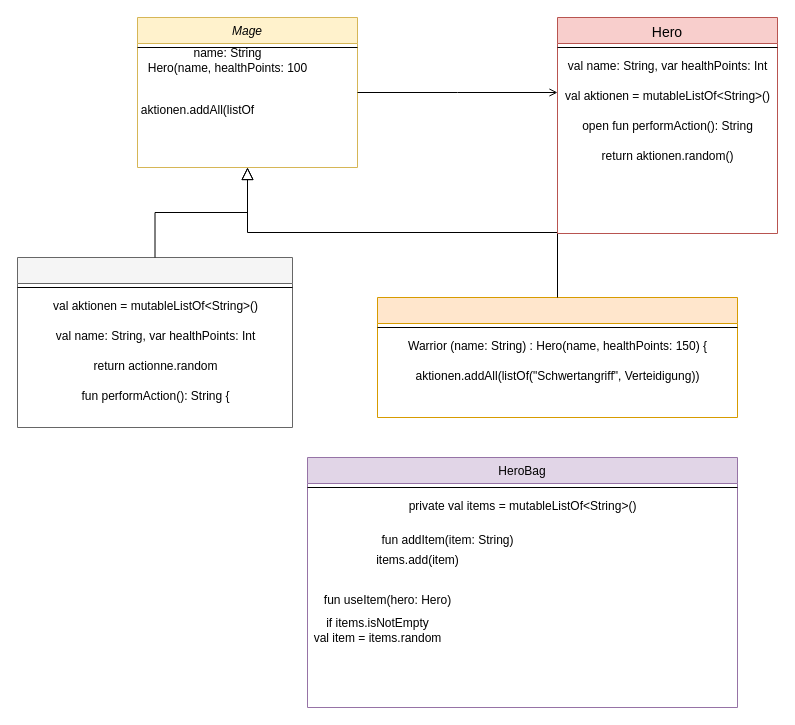
The diagram is 795 pixels wide and 725 high, and some of its shapes have lost their labels. Here are the shapes that lost their labels. From the top down, the box of each, then its label:
(16, 256, 292, 428): FinalBoss
(376, 296, 738, 418): Krieger
